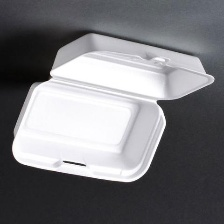foam_box: (5, 28, 219, 190)
